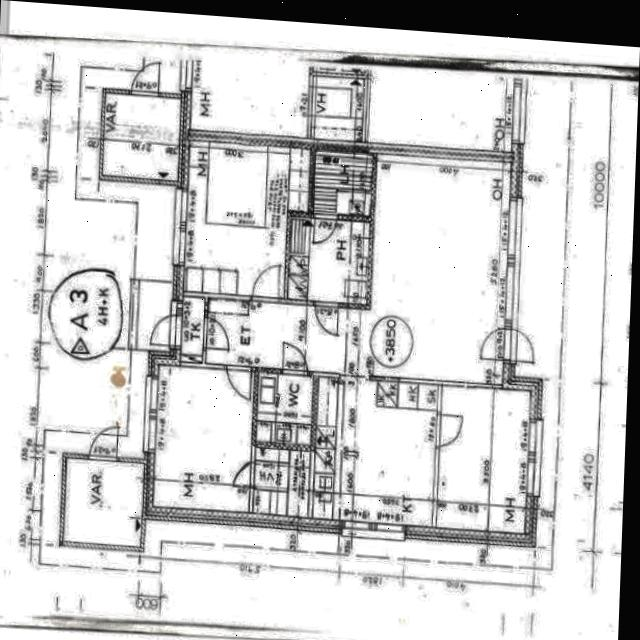room: (179, 141, 310, 299), (153, 366, 253, 512), (436, 385, 529, 534), (287, 217, 368, 305), (63, 458, 143, 546), (102, 94, 180, 181), (256, 373, 312, 444), (252, 448, 309, 517), (313, 151, 372, 216), (180, 296, 204, 363)
